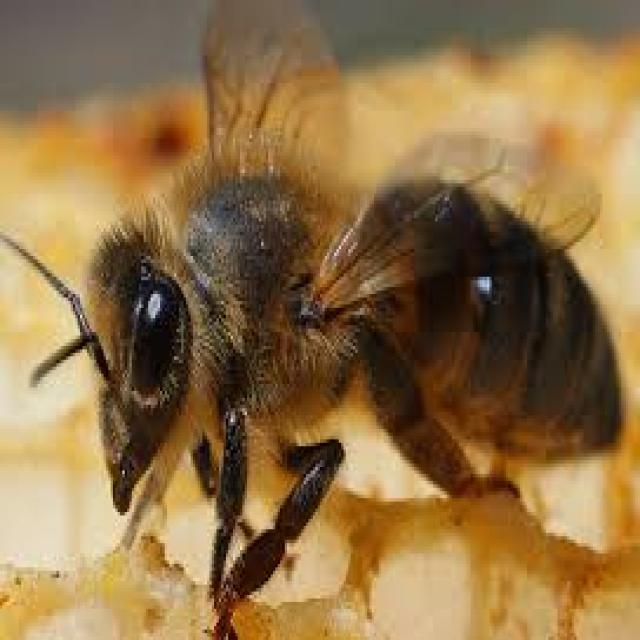Bees: (0, 0, 625, 640)
